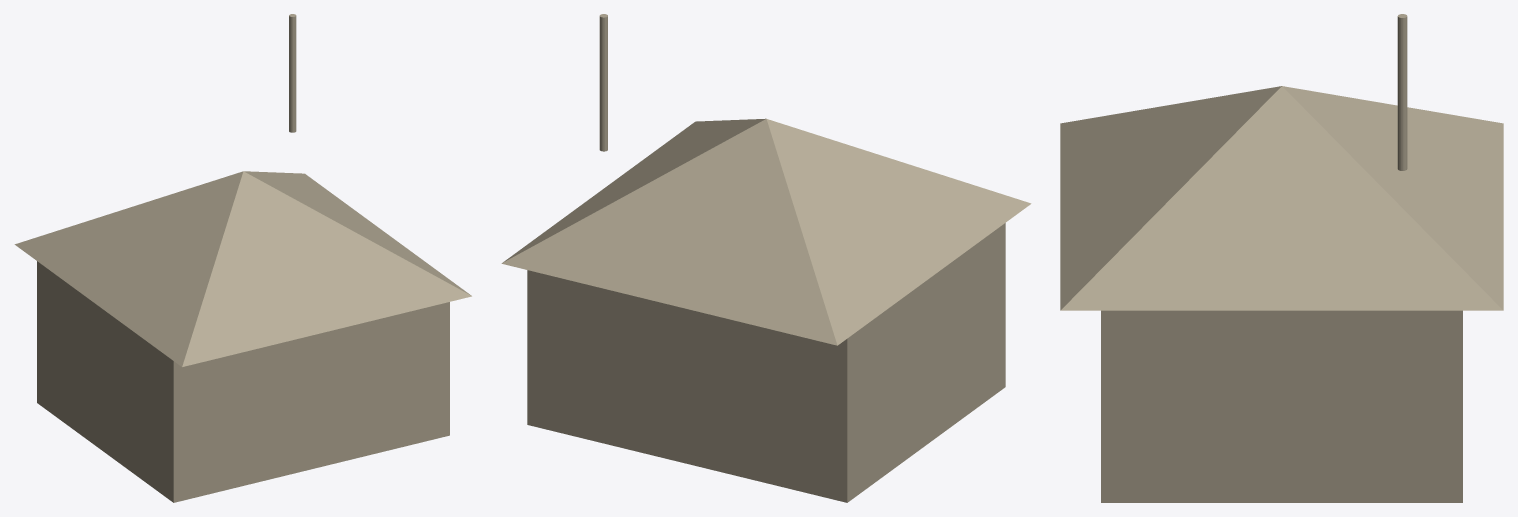
The model's file is camp_hq.glb.
3 views of the same model, side by side, from view 1: azimuth 30°, elevation 25°; view 2: azimuth 150°, elevation 25°; view 3: azimuth 270°, elevation 25° (orthographic). The views are drawn at different scales.
Visible parts, largest first — view 1: camp_hq; view 2: camp_hq; view 3: camp_hq.
Part boxes in pixels (x1,y1,x2,y2): camp_hq: [14, 14, 471, 502]; camp_hq: [501, 14, 1031, 502]; camp_hq: [1060, 14, 1503, 502].
Bounding box in the file's own units: 3.68 × 4.2 × 3.68.
